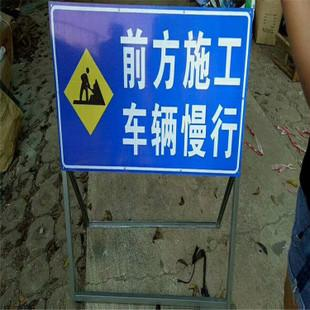sign: (51, 4, 248, 175)
